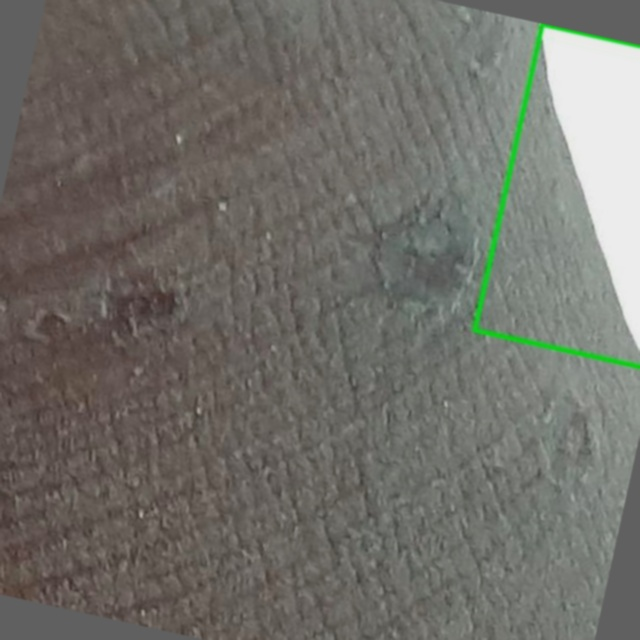Contact Dermatitis: (474, 24, 639, 366)
